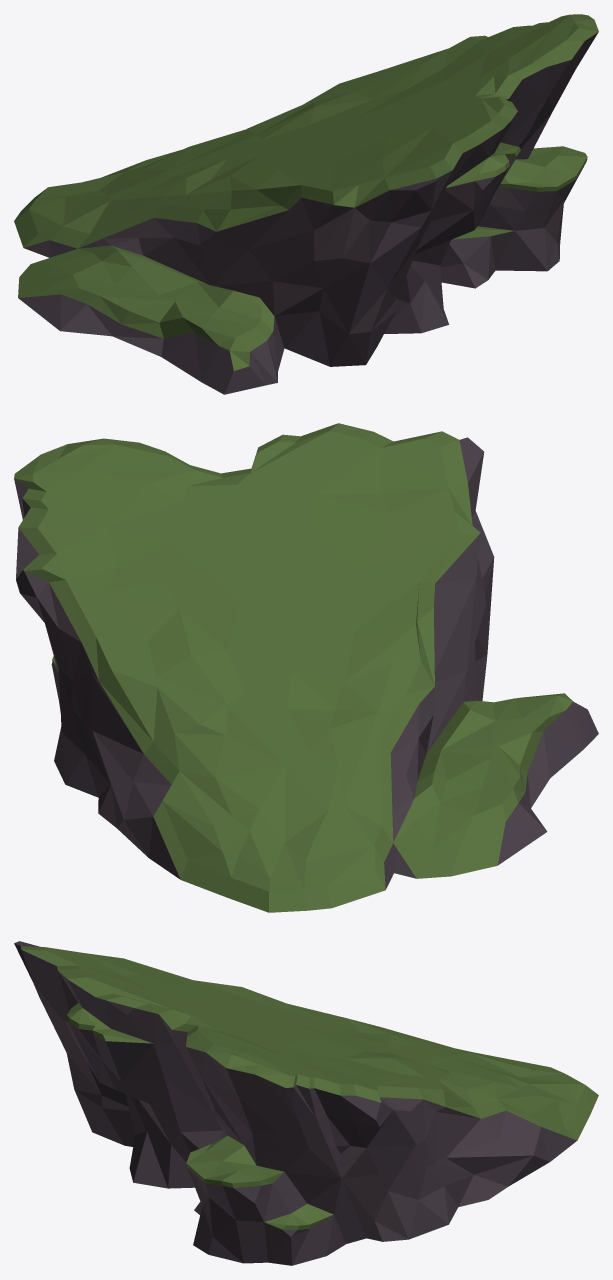
The model's file is Clif_1  Asia.fbx.
The picture shows the model from 3 angles, top to bottom: view 1: azimuth 30°, elevation 25°; view 2: azimuth 150°, elevation 25°; view 3: azimuth 270°, elevation 25°; orthographic projection. The views are drawn at different scales.
Parts seen in each view (by area): view 1: Clif_1; view 2: Clif_1; view 3: Clif_1.
Boxes of the visible parts, left/top/right/bottom form: Clif_1: left=14, top=14, right=598, bottom=394; Clif_1: left=14, top=423, right=598, bottom=912; Clif_1: left=14, top=941, right=598, bottom=1265.
Bounding box in the file's own units: 27.79 × 11.17 × 27.51.
